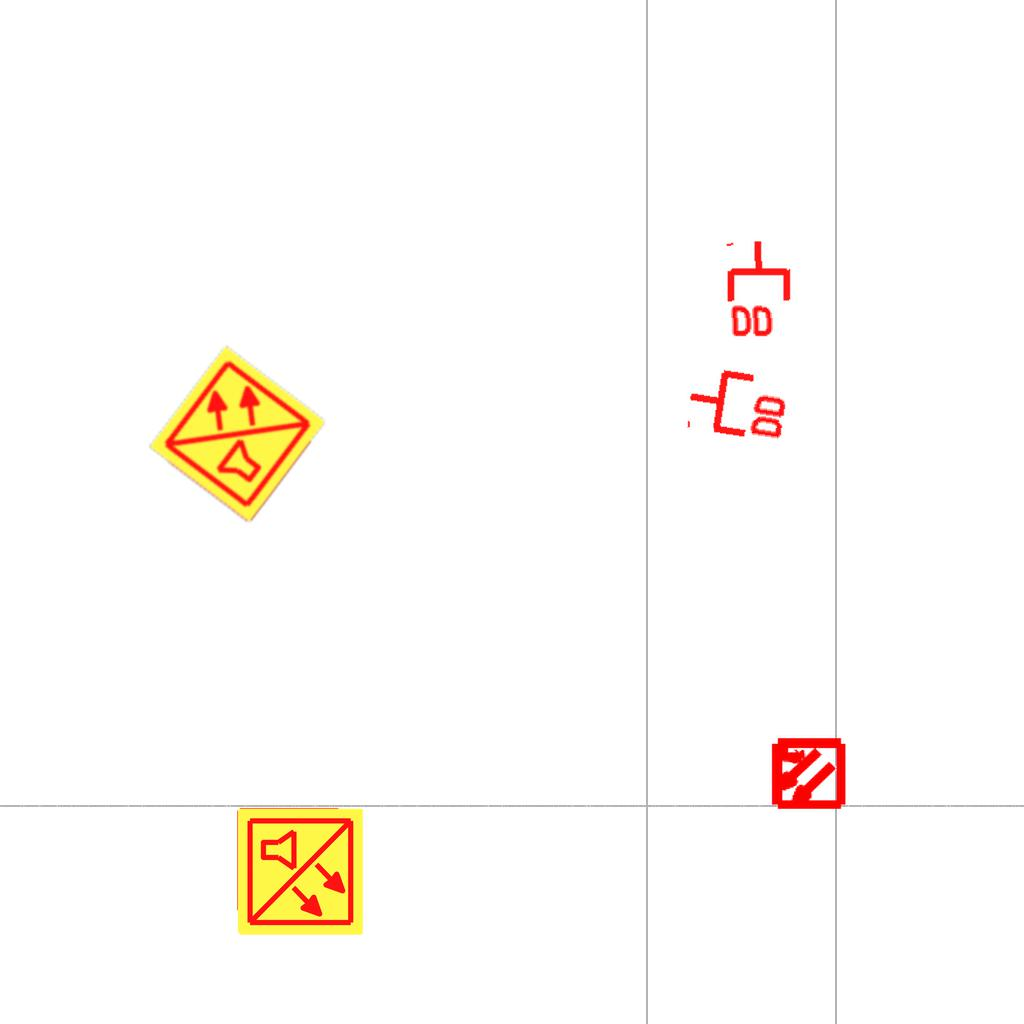Datenanschluss_zweifach: (682, 360, 795, 445), (725, 237, 796, 342)
OKW_Multisensormelder_(Kombination_optischer_Rauch-Kahlenmonoxid_Waerme-Melder): (145, 341, 331, 527), (234, 806, 366, 938)
OT_Multisensormelder_(Kombination_RMO_WMD): (750, 717, 863, 830)
